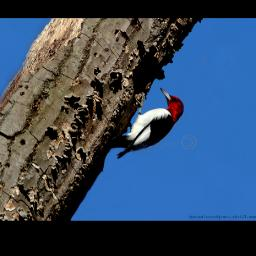Woodpecker: (100, 83, 193, 164)
